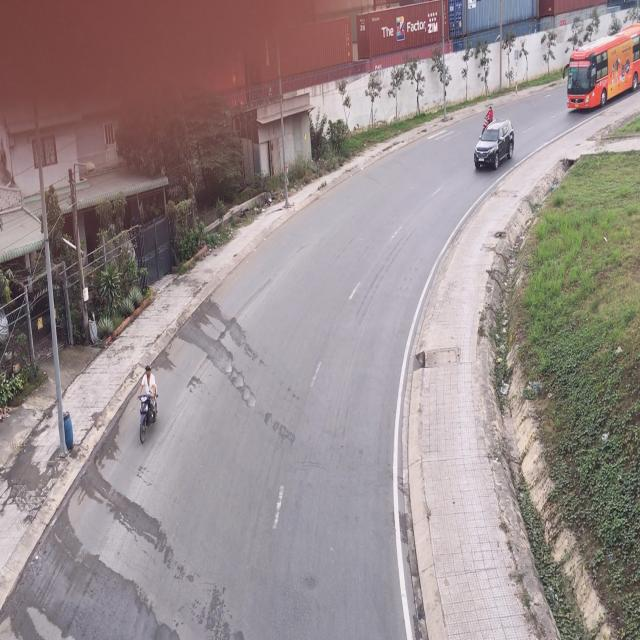bus: (568, 29, 640, 113)
car: (474, 121, 515, 172)
motorbike: (137, 365, 158, 440), (480, 105, 492, 134)
